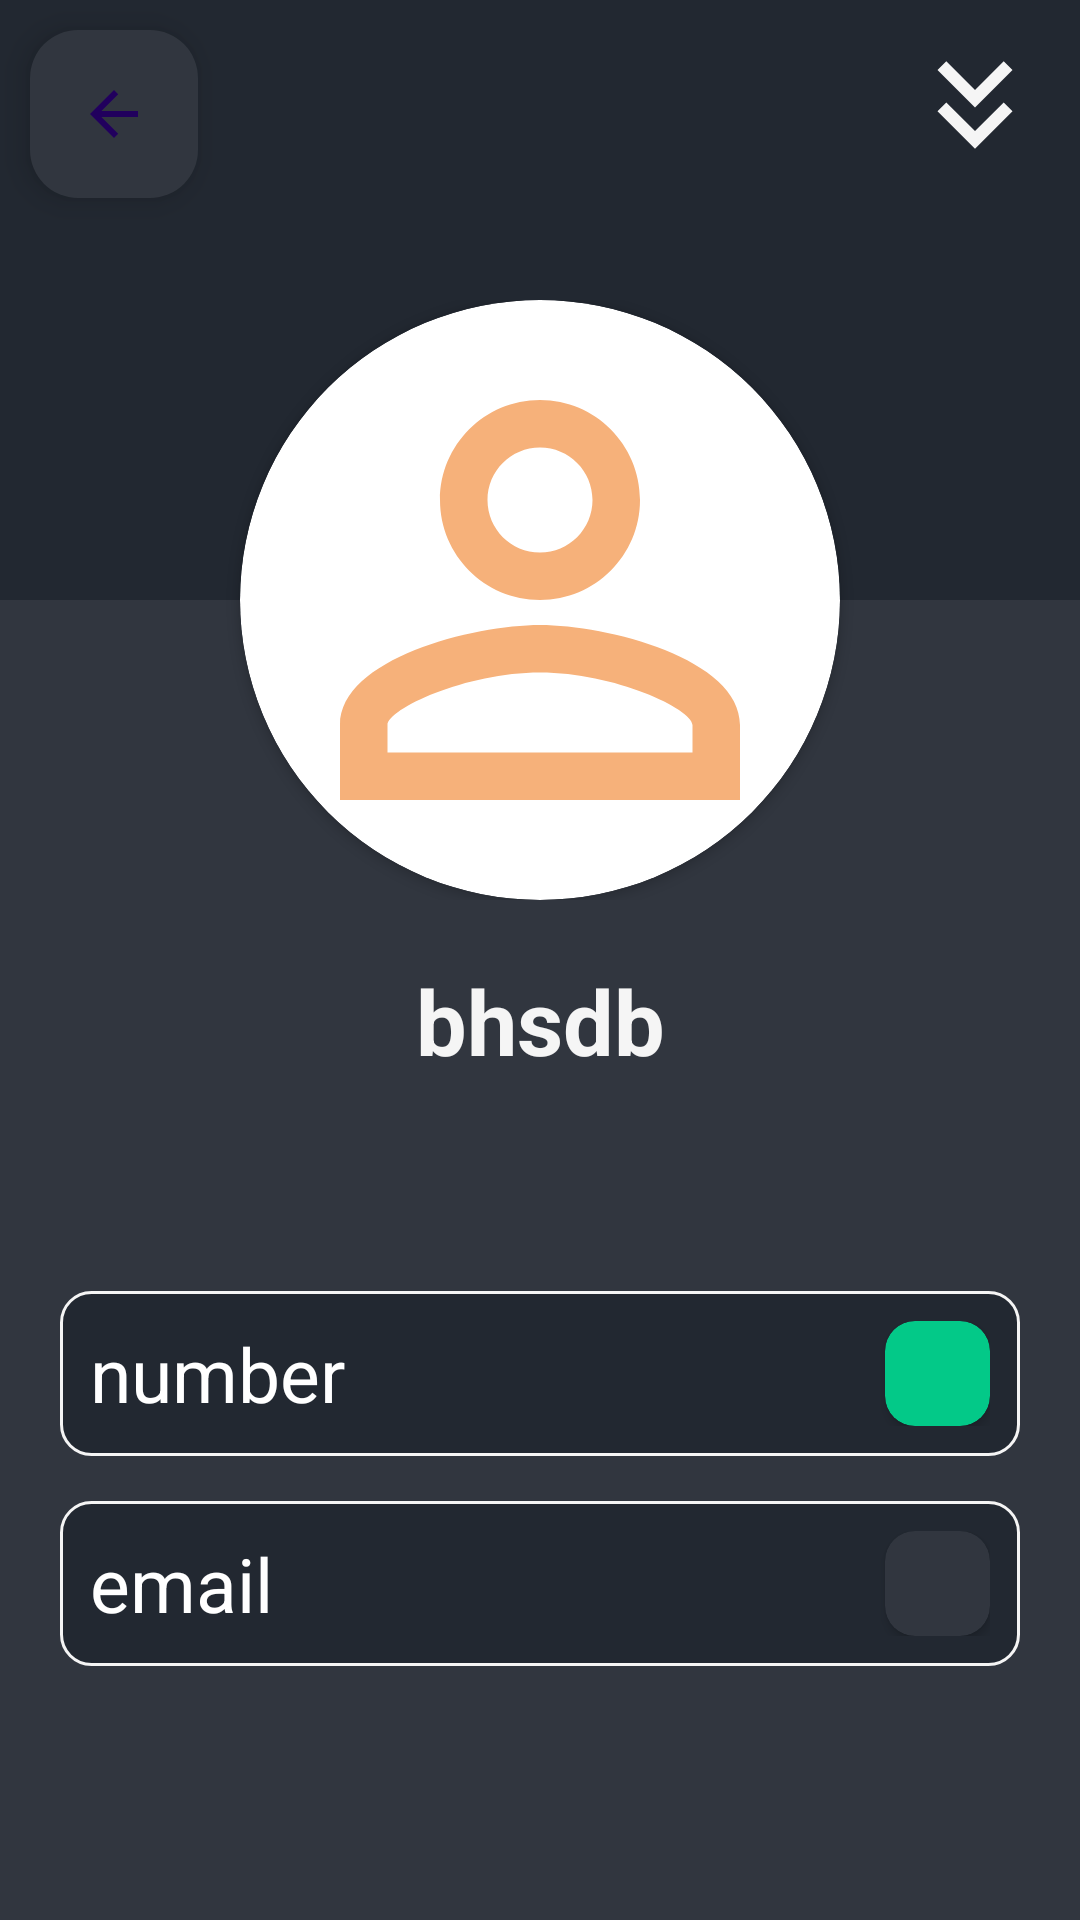

Named icons in this screenshot (1080x1920) and their centers, point (x, y):
arrow back: point (114, 114)
keyboard double arrow down: point (975, 105)
